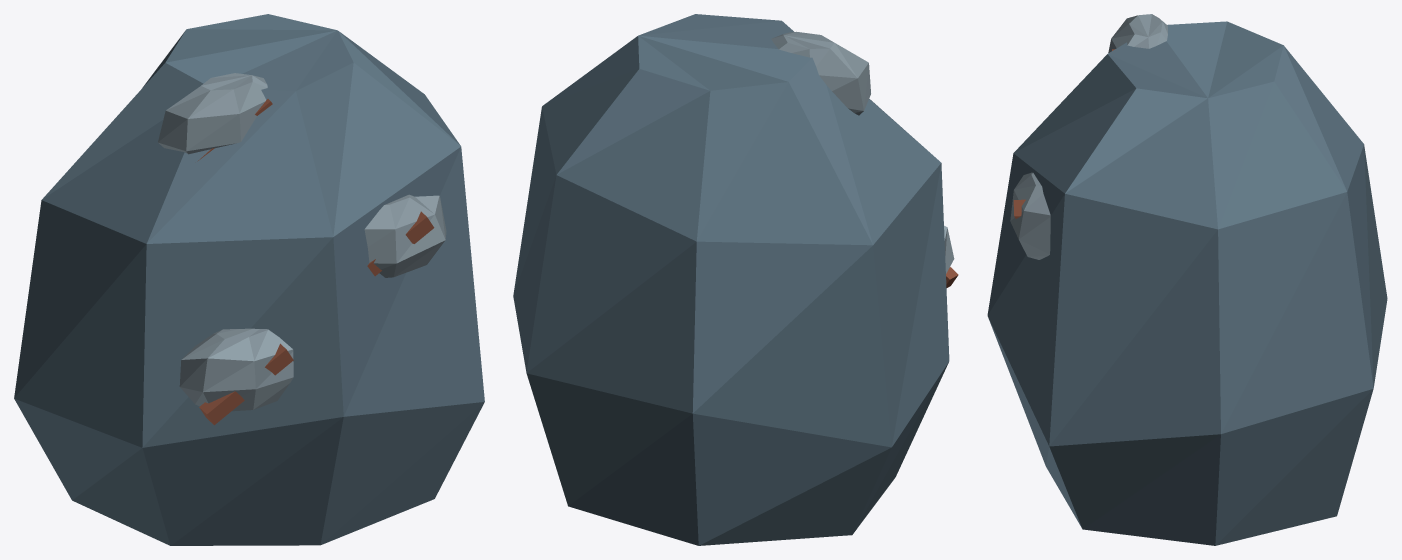
Rendered from ore_iron_frost.glb.
3 renders of one model, left to right at view 1: azimuth 30°, elevation 25°; view 2: azimuth 150°, elevation 25°; view 3: azimuth 270°, elevation 25°, orthographic. The views are drawn at different scales.
Visible parts, largest first — view 1: geometry; view 2: geometry; view 3: geometry.
Part boxes in pixels (x1,y1,x2,y2): geometry: (14,14,484,545); geometry: (513,14,958,545); geometry: (987,14,1387,545).
Size of the model in its own units: 0.7001 by 0.71 by 0.6102.
